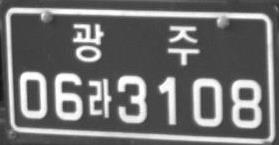0: (190, 77, 225, 128), (19, 70, 48, 119)
1: (156, 76, 183, 126)
3: (116, 74, 148, 124)
6: (54, 71, 85, 122)
8: (230, 77, 263, 129)
광주_D: (72, 22, 200, 66)
라: (88, 78, 112, 118)
